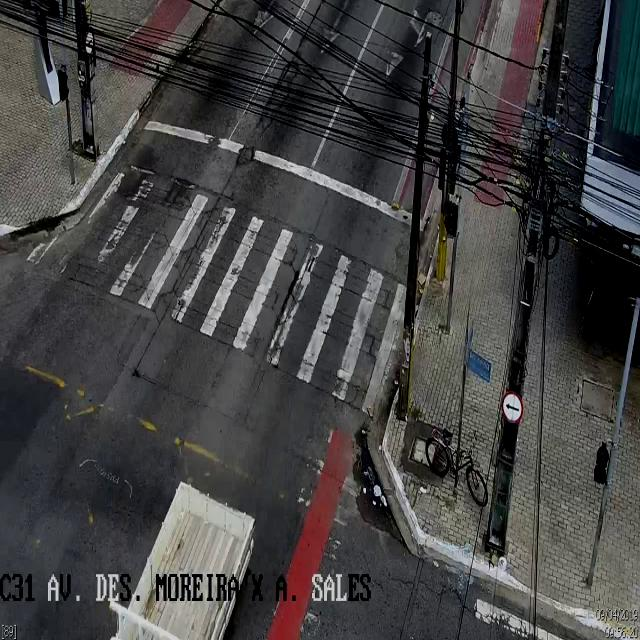Car: (91, 479, 266, 640)
